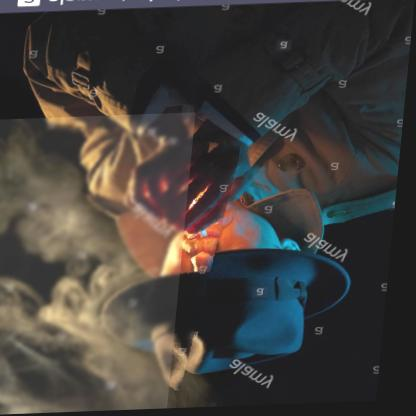smoke: (0, 119, 176, 413)
